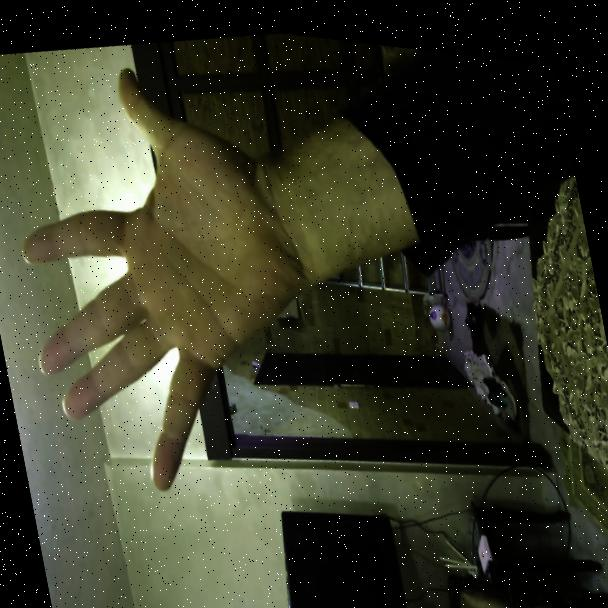five: (0, 28, 325, 521)
